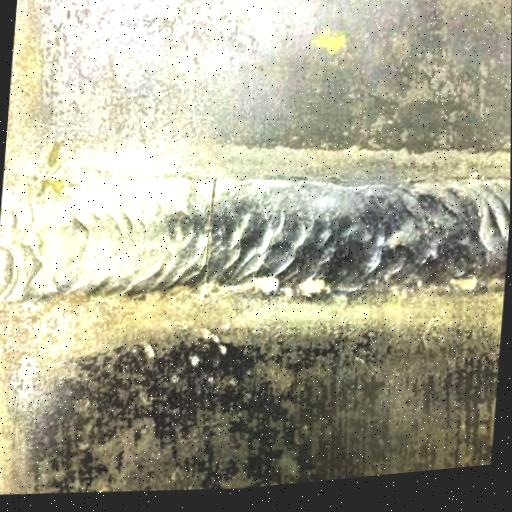crack: (187, 173, 235, 299)
